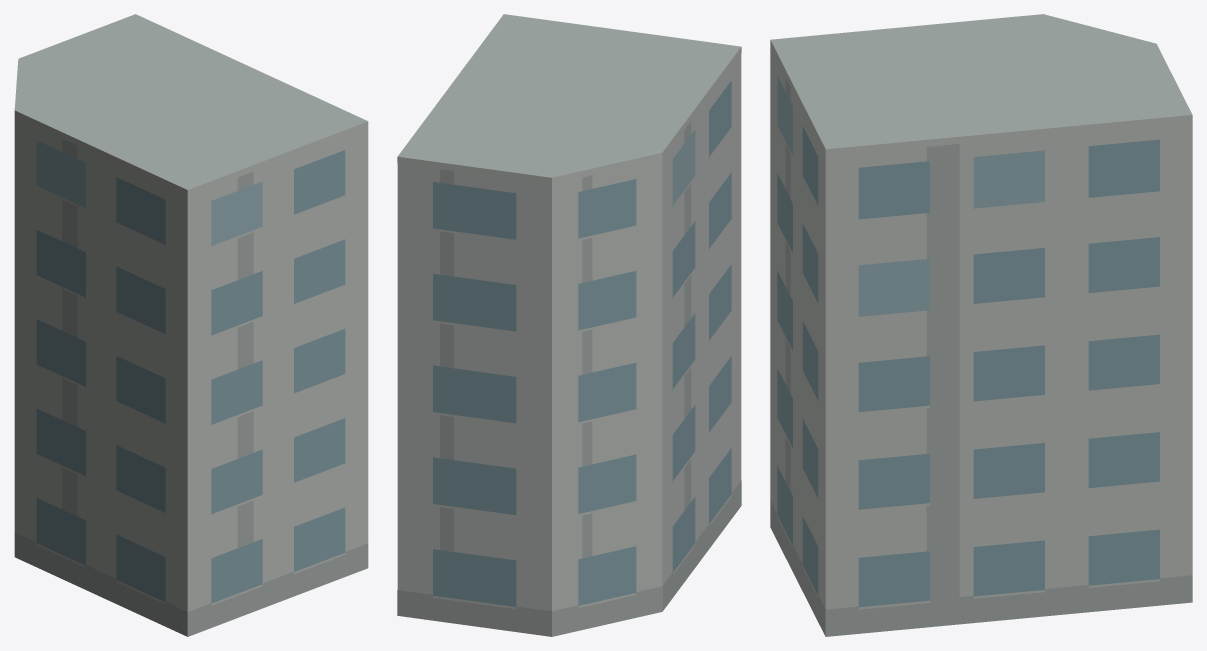
File: survey-upis-32830731.glb
3 views of the same model, side by side, from view 1: azimuth 30°, elevation 25°; view 2: azimuth 150°, elevation 25°; view 3: azimuth 270°, elevation 25° (orthographic). The views are drawn at different scales.
Visible parts, largest first — view 1: survey-upis-32830731.tmp; view 2: survey-upis-32830731.tmp; view 3: survey-upis-32830731.tmp.
Boxes of the visible parts, x1,y1,x2,y2 form: survey-upis-32830731.tmp: (14, 14, 368, 636); survey-upis-32830731.tmp: (397, 14, 741, 636); survey-upis-32830731.tmp: (770, 14, 1192, 636).
Size of the model in its own units: 10.05 by 16.87 by 13.25.
